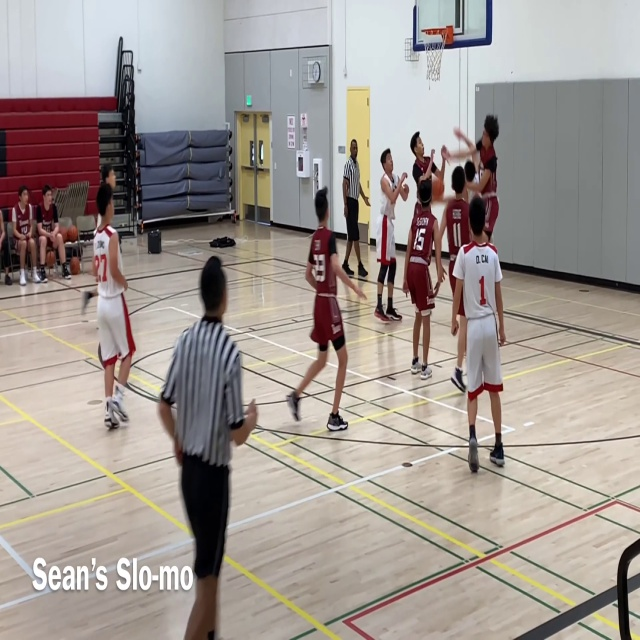Basketball: (59, 224, 78, 243), (431, 175, 444, 200), (66, 225, 78, 242), (70, 256, 81, 274), (46, 249, 56, 266)
